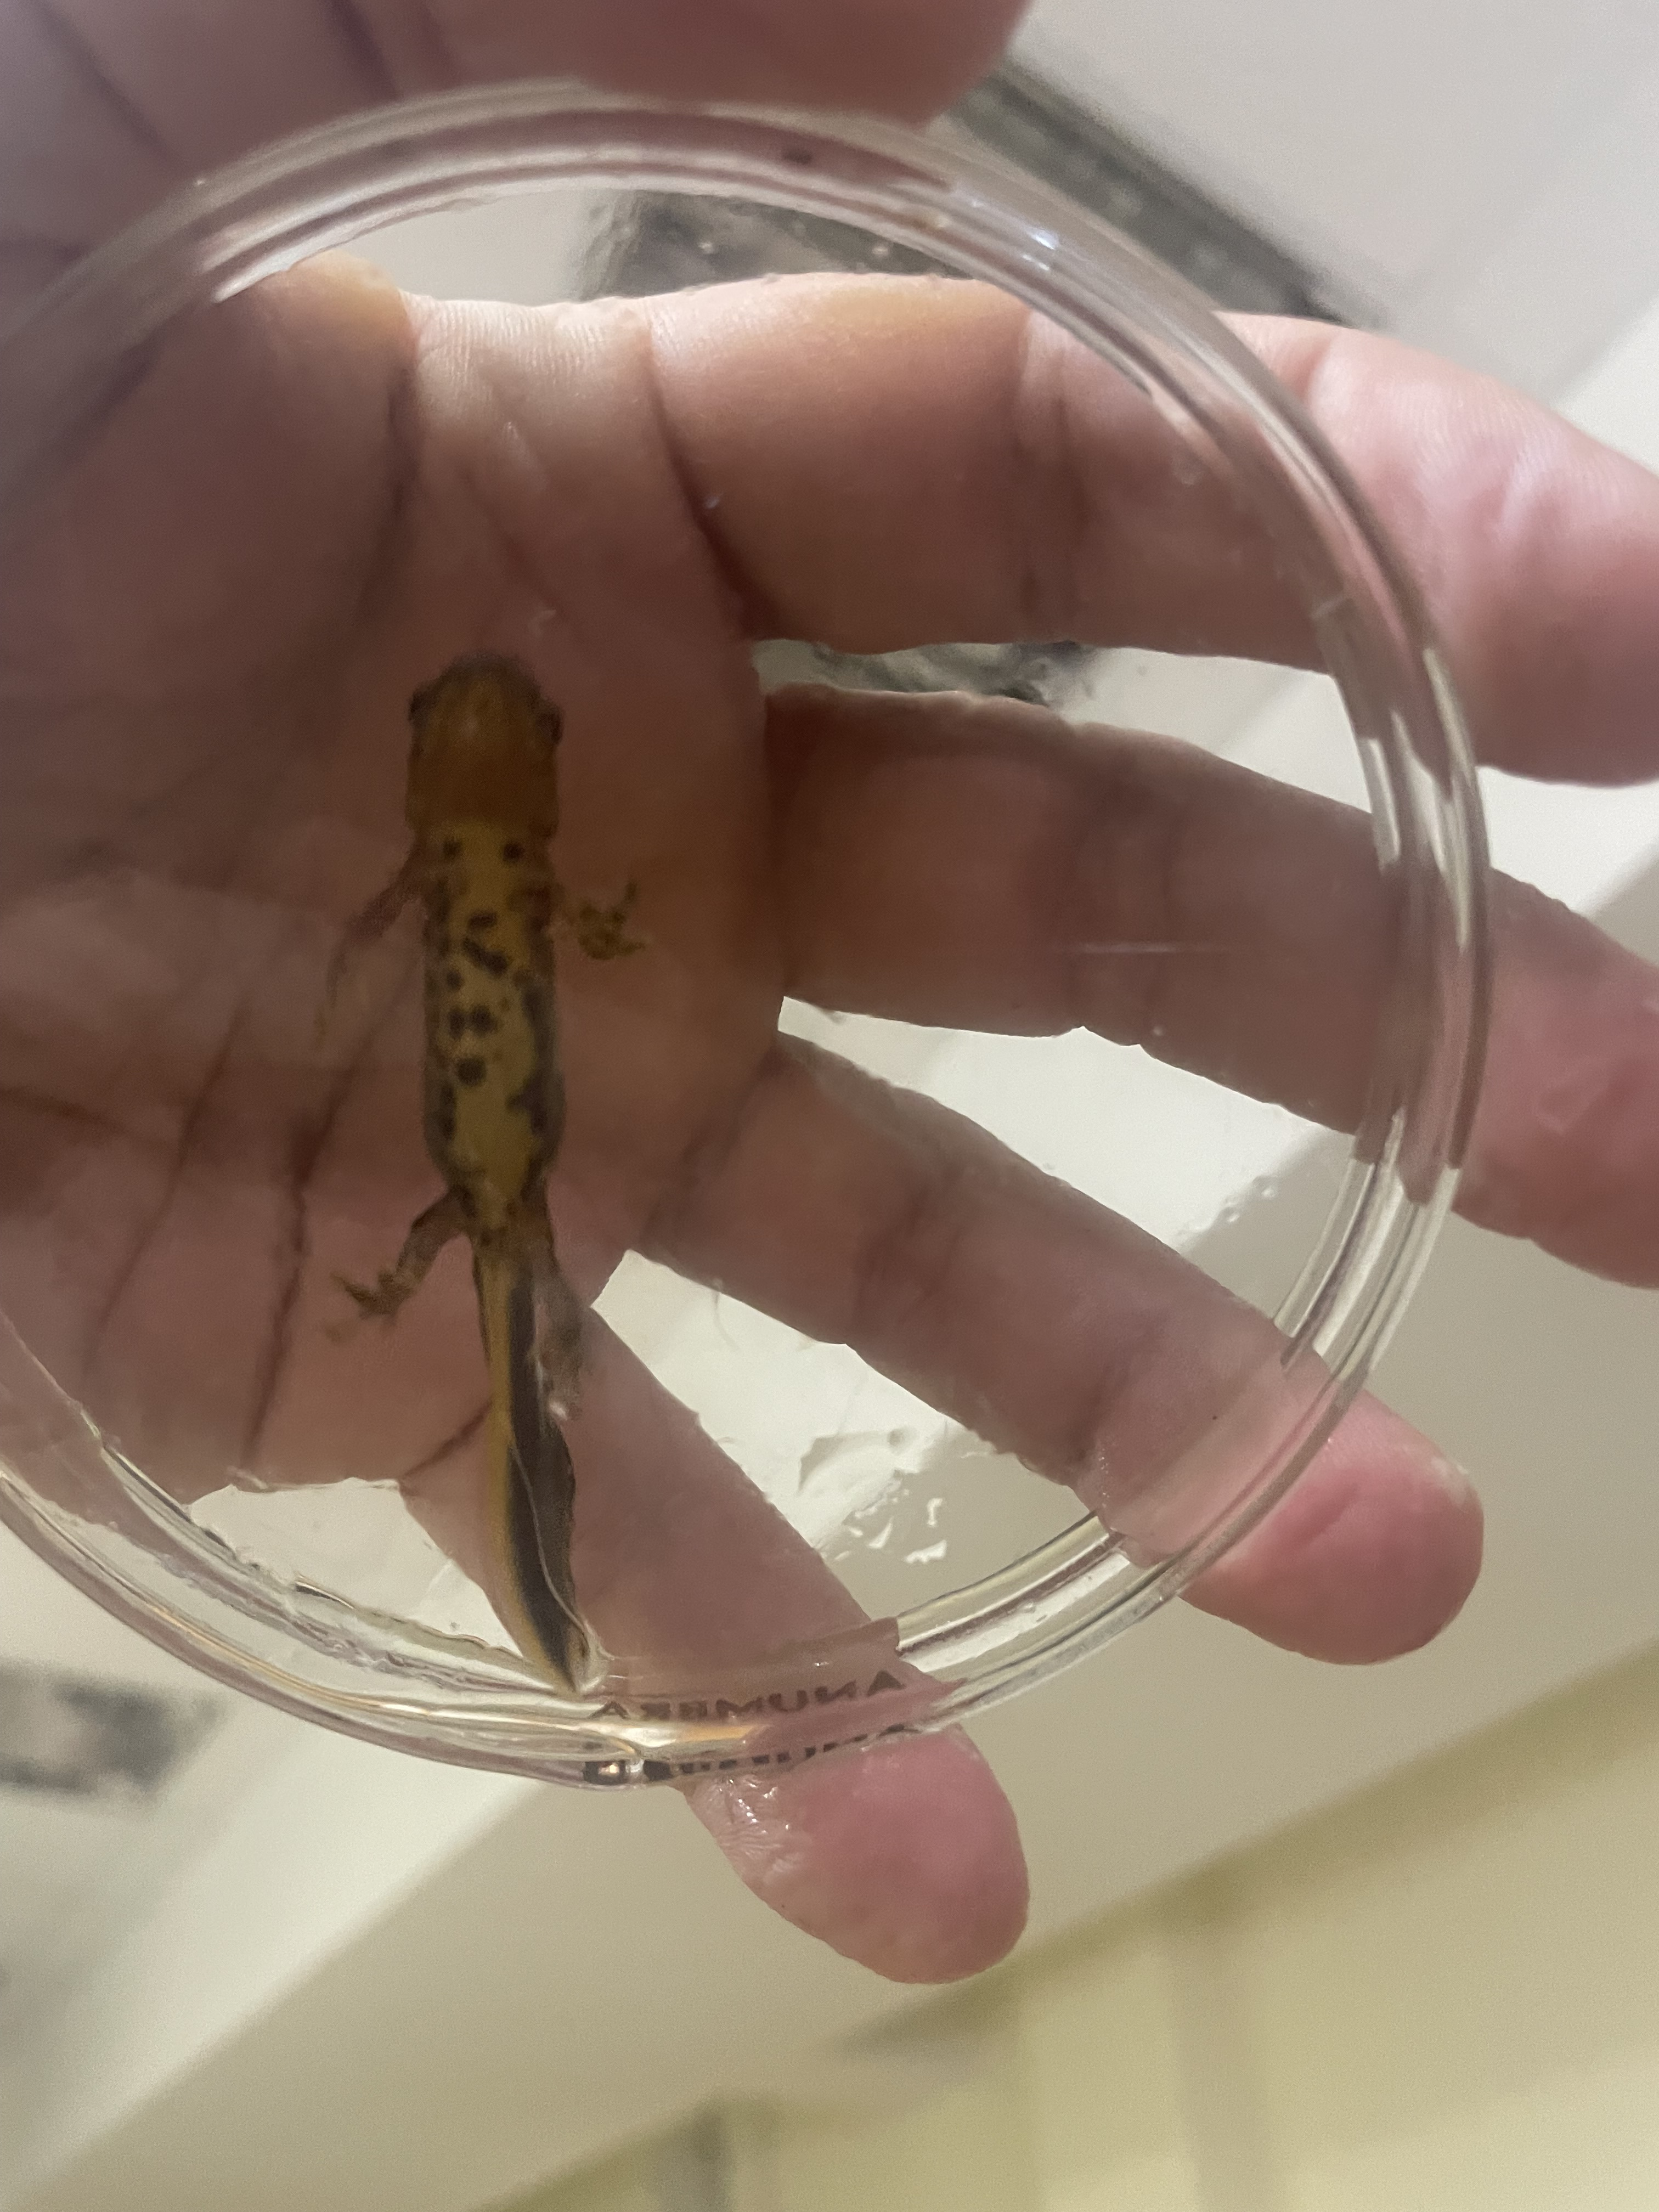Karelin_newt: (420, 892, 565, 1190)
